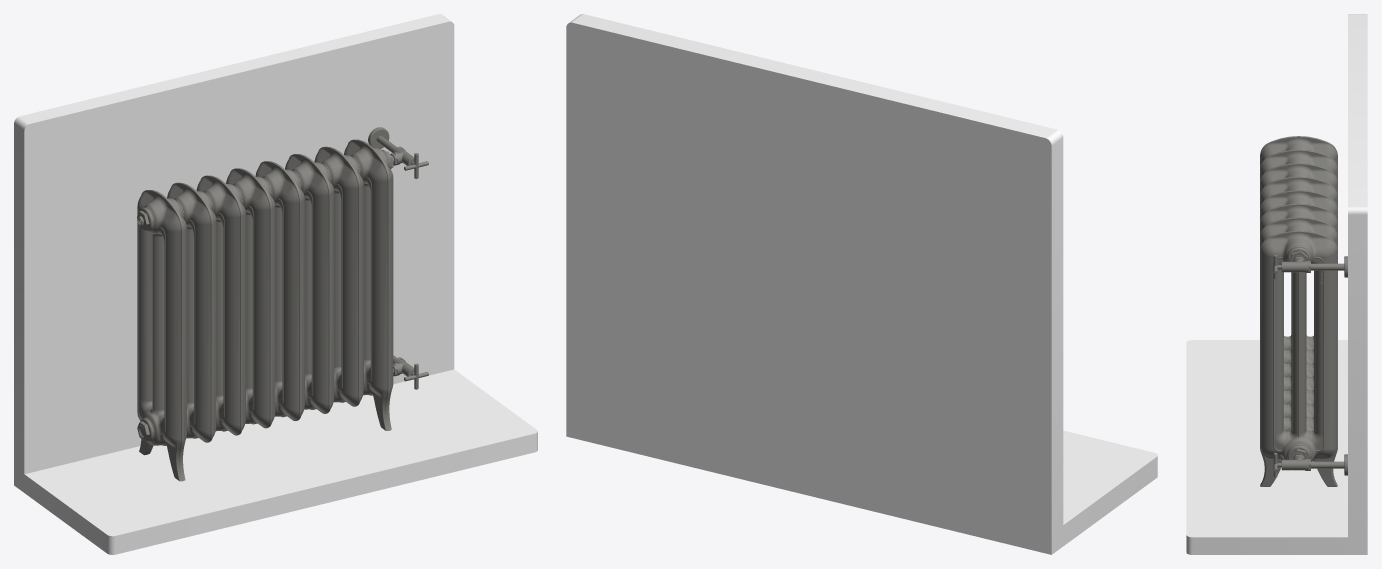
Rendered from obj_plain_3k_cast_iron_radiator_f100fa.glb.
3 renders of one model, left to right at view 1: azimuth 30°, elevation 25°; view 2: azimuth 150°, elevation 25°; view 3: azimuth 270°, elevation 25°, orthographic. The views are drawn at different scales.
Visible parts, largest first — view 1: obj_plain_3k_cast_iron_radiator_f100fa; view 2: obj_plain_3k_cast_iron_radiator_f100fa; view 3: obj_plain_3k_cast_iron_radiator_f100fa.
Part boxes in pixels (bbox=[...]): obj_plain_3k_cast_iron_radiator_f100fa: bbox=[14, 14, 537, 554]; obj_plain_3k_cast_iron_radiator_f100fa: bbox=[566, 14, 1157, 554]; obj_plain_3k_cast_iron_radiator_f100fa: bbox=[1186, 14, 1367, 554].
Size of the model in its own units: 0.8 by 0.654 by 0.3104.
Materials: 8 (8 with a texture image).
